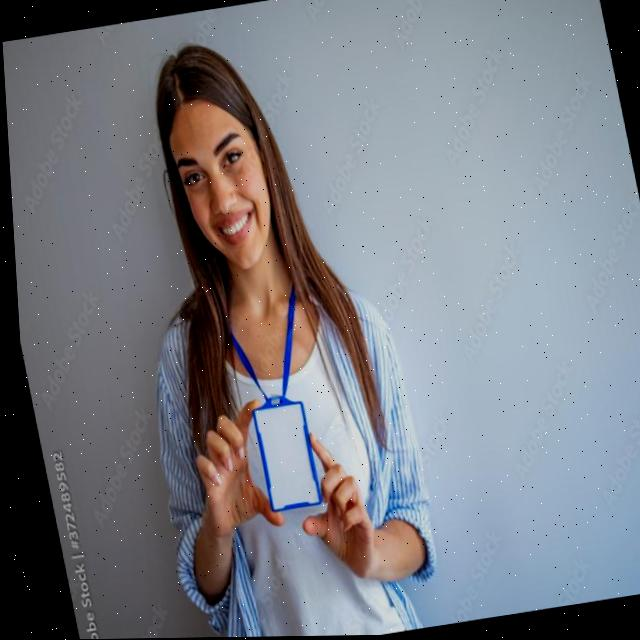id_card: (195, 265, 342, 523)
